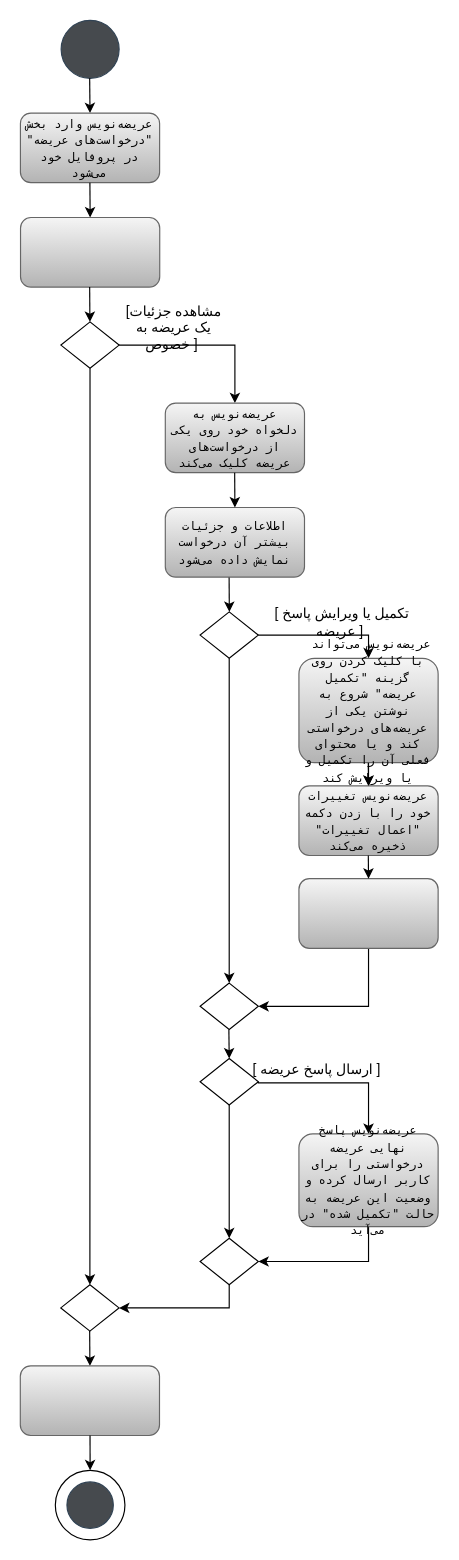
Image size: 459x1560. Some labels were removed from this diagram. The shapes that lost their labels are listed below. From the top down, each one's centre as x and y in pixels, then its label:
(x=89, y=251): فهرستی از تمام درخواست‌های عریضه او نمایش داده می‌شود
(x=368, y=913): وضعیت این درخواست به حالت"در حال بررسی" در می‌آید
(x=89, y=1400): خروج از صفحه درخواست‌های عریضه
